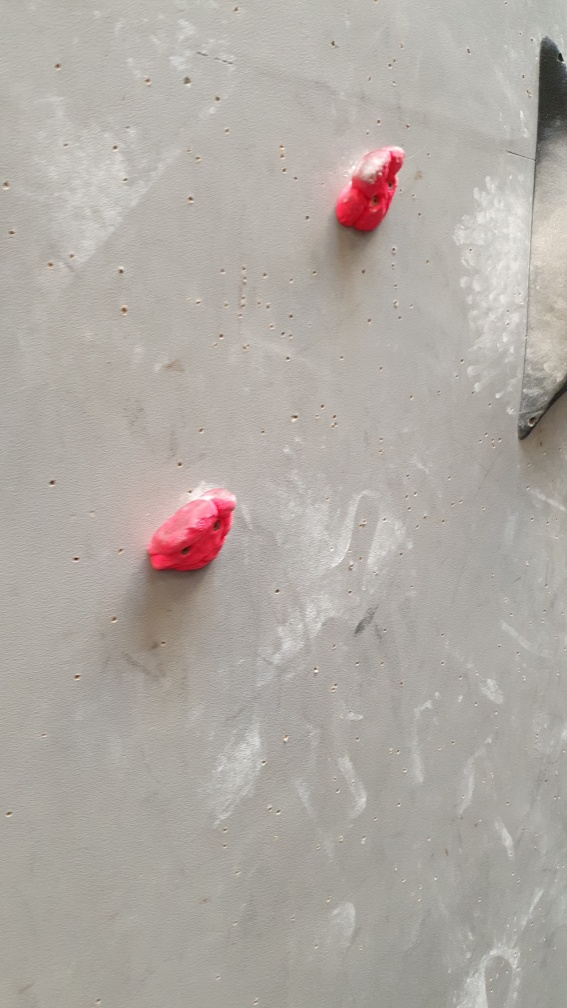Jug: (145, 484, 239, 581), (335, 144, 408, 239)
